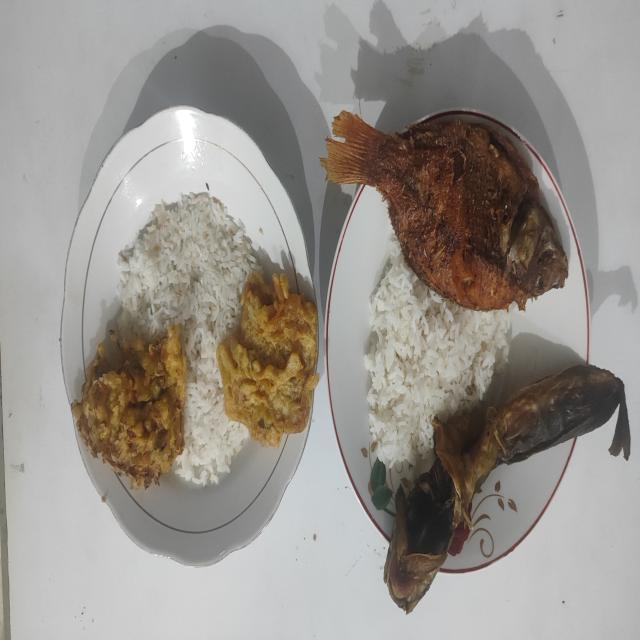ikan_mujair: (320, 110, 568, 310)
nasi_putih: (117, 192, 258, 486), (364, 234, 512, 466)
